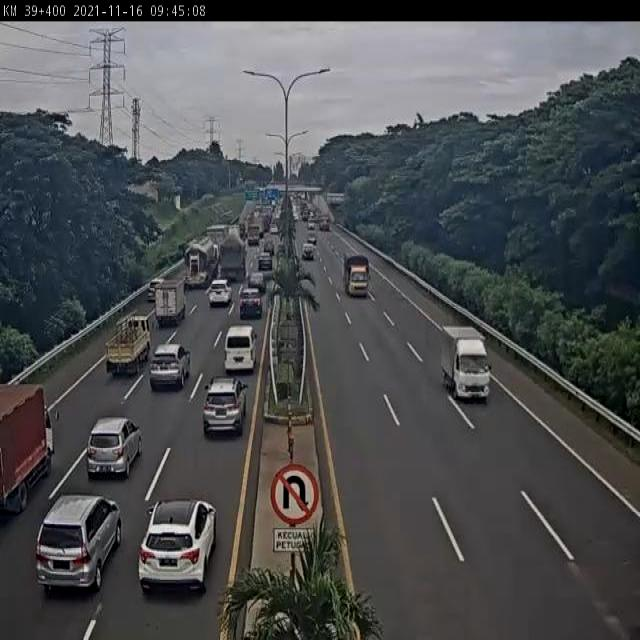Car: (131, 491, 228, 599), (36, 494, 122, 592), (86, 416, 143, 480), (202, 376, 250, 436), (148, 343, 190, 391), (222, 324, 258, 374), (238, 288, 264, 319), (208, 279, 233, 307), (248, 271, 266, 292), (258, 250, 272, 271), (302, 241, 316, 260)
Truck: (0, 390, 70, 506), (437, 325, 502, 405), (106, 314, 151, 378), (151, 276, 188, 329), (182, 232, 222, 280), (216, 232, 252, 279), (342, 252, 373, 299)
